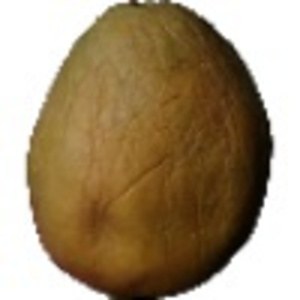mamão: (20, 2, 279, 294)
